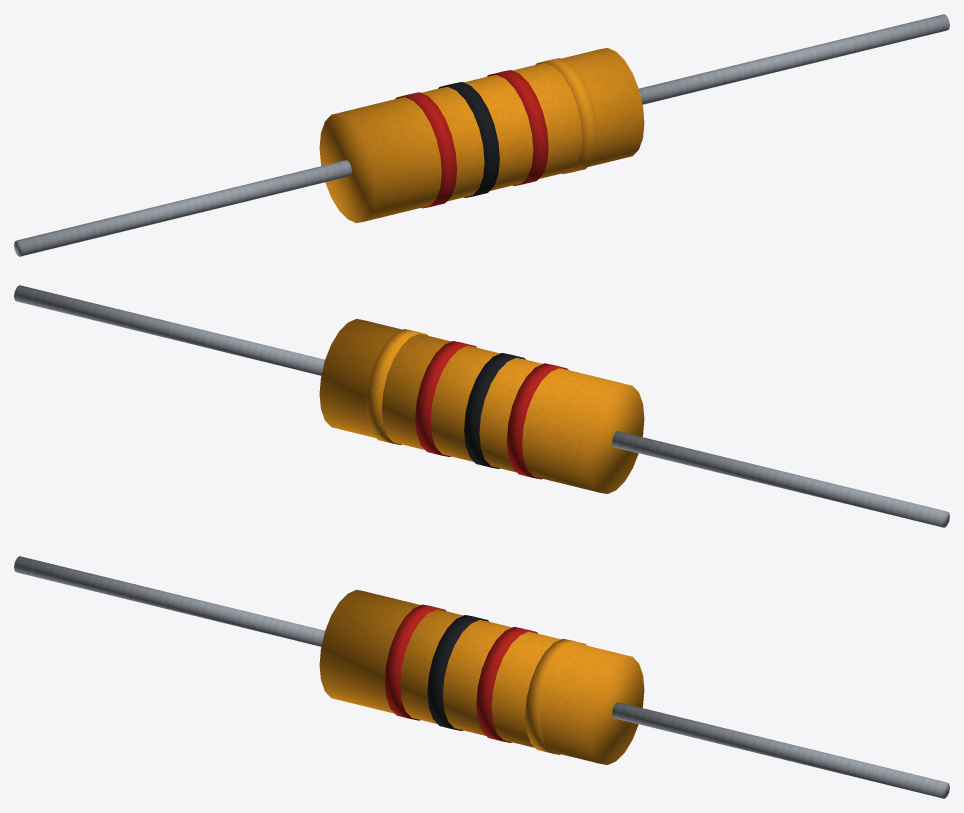
File: Resistor.obj
3 views of the same model, one above another, from view 1: azimuth 30°, elevation 25°; view 2: azimuth 150°, elevation 25°; view 3: azimuth 330°, elevation 25° (orthographic).
Visible parts, largest first — view 1: Body, Lead, Lead.001, Band.002, Band, Band.001, Band.003; view 2: Body, Lead, Lead.001, Band.002, Band, Band.001, Band.003; view 3: Body, Lead.001, Lead, Band, Band.001, Band.003, Band.002.
Part boxes in pixels (x1,y1,x2,y2): Body: [319, 48, 644, 222]; Lead: [14, 160, 351, 256]; Lead.001: [639, 14, 949, 104]; Band.002: [487, 70, 548, 185]; Band: [395, 92, 457, 208]; Band.001: [438, 82, 499, 197]; Band.003: [535, 58, 597, 173]; Body: [319, 319, 644, 493]; Lead: [612, 431, 949, 527]; Lead.001: [14, 285, 324, 375]; Band.002: [415, 341, 476, 456]; Band: [506, 363, 568, 479]; Band.001: [464, 353, 525, 468]; Band.003: [366, 329, 428, 444]; Body: [319, 590, 644, 764]; Lead.001: [612, 702, 949, 798]; Lead: [14, 556, 324, 646]; Band: [384, 604, 446, 720]; Band.001: [427, 615, 488, 730]; Band.003: [525, 639, 586, 754]; Band.002: [476, 627, 537, 742].
Bounding box in the file's own units: 0.76 × 0.082 × 0.082.
